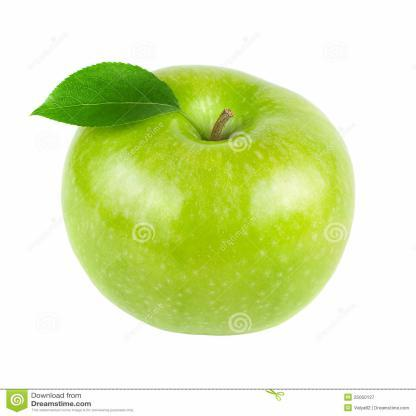Apple leaf: (20, 55, 190, 130)
